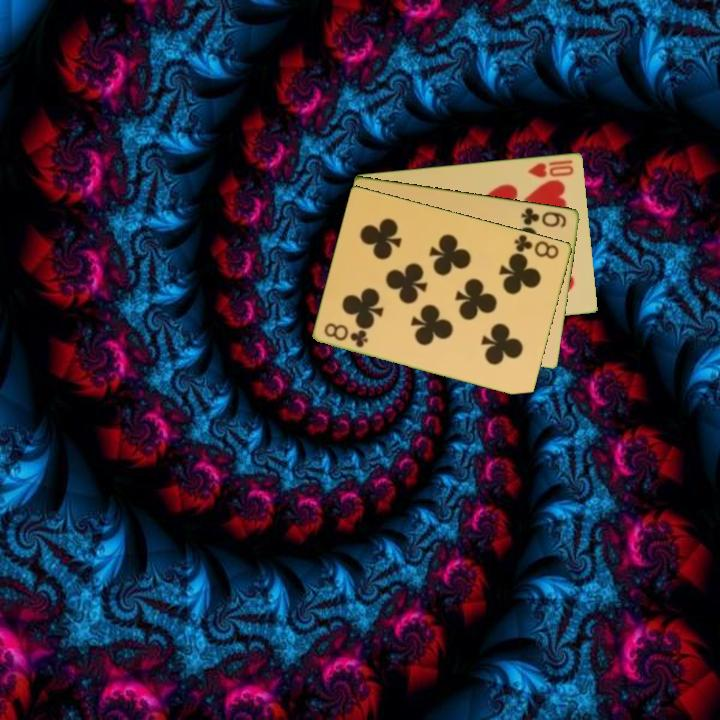10h: (525, 156, 577, 180)
6c: (518, 204, 570, 230)
8c: (511, 231, 562, 262), (321, 319, 371, 350)
